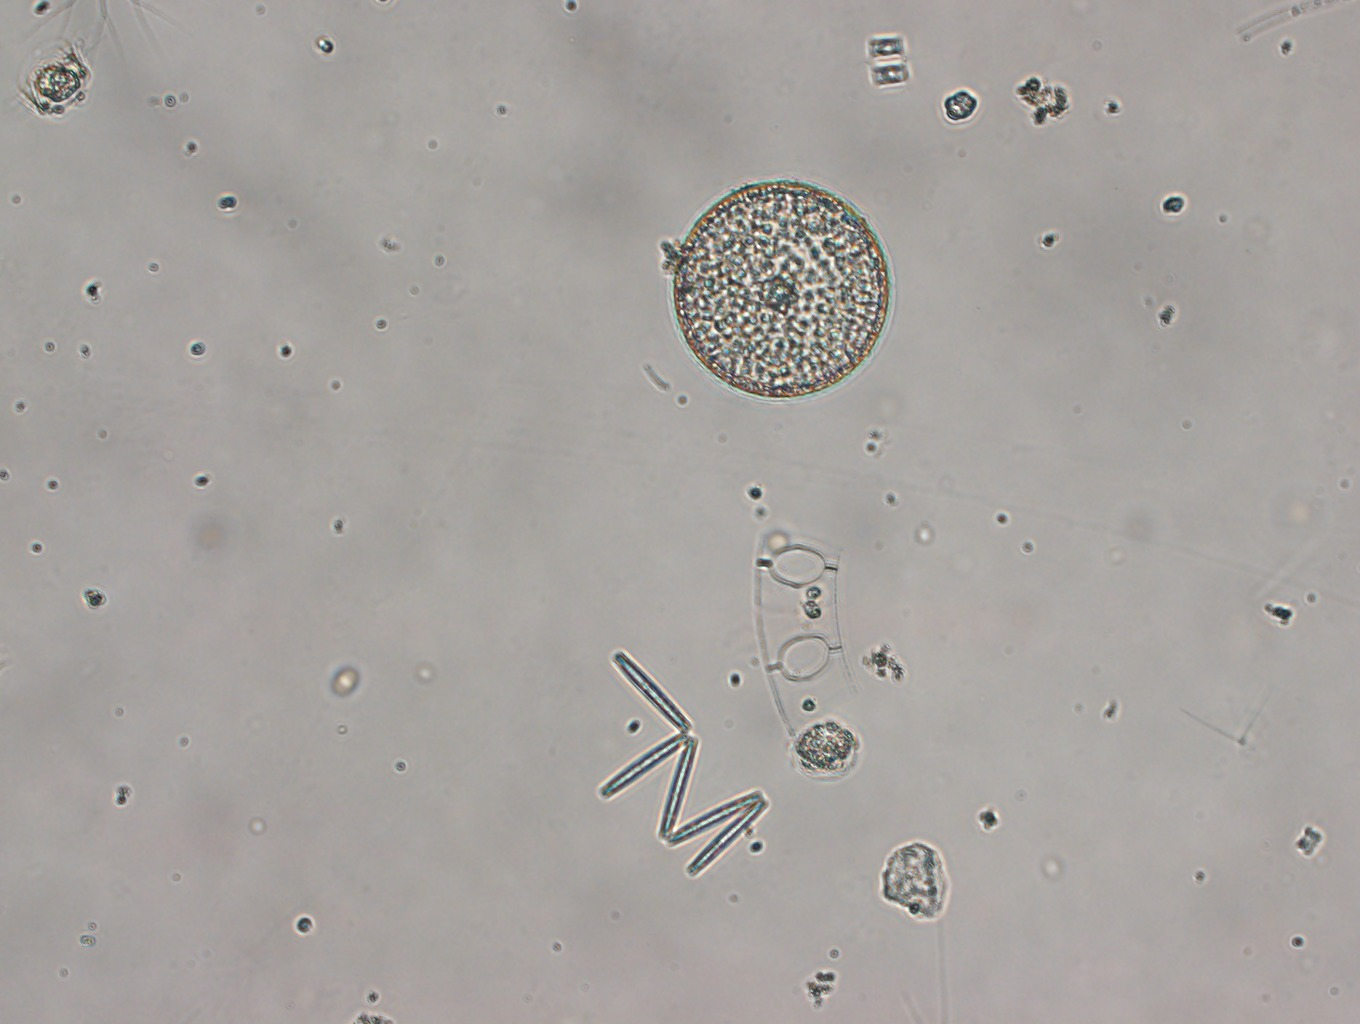coscinodiscus: (671, 179, 892, 400)
eucampia: (754, 515, 855, 737)
thalassionema nitzschioides: (596, 648, 772, 878)
